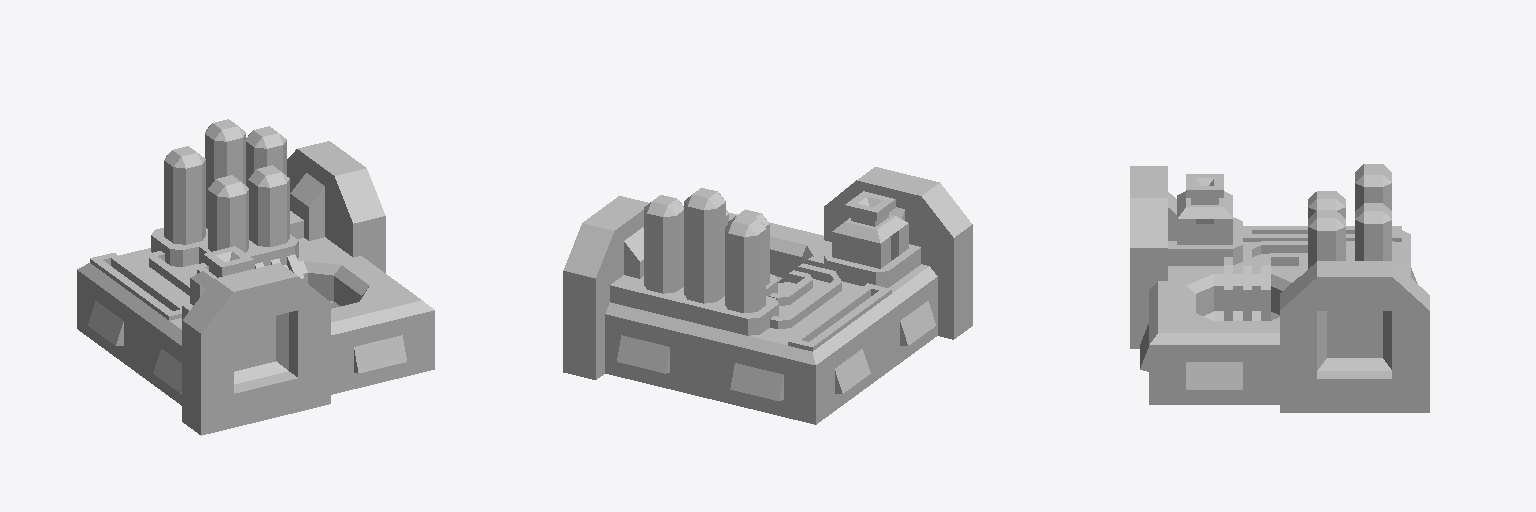
Rendered from fusery_body.obj.
The picture shows the model from 3 angles: view 1: azimuth 30°, elevation 25°; view 2: azimuth 150°, elevation 25°; view 3: azimuth 270°, elevation 25°; orthographic projection.
Visible parts, largest first — view 1: FUSERY_BODY_Cube.022; view 2: FUSERY_BODY_Cube.022; view 3: FUSERY_BODY_Cube.022.
Boxes of the visible parts, <box> form: FUSERY_BODY_Cube.022: <box>77,119,434,435</box>; FUSERY_BODY_Cube.022: <box>563,167,972,424</box>; FUSERY_BODY_Cube.022: <box>1130,164,1429,412</box>.
Bounding box in the file's own units: 2 × 1.38 × 2.